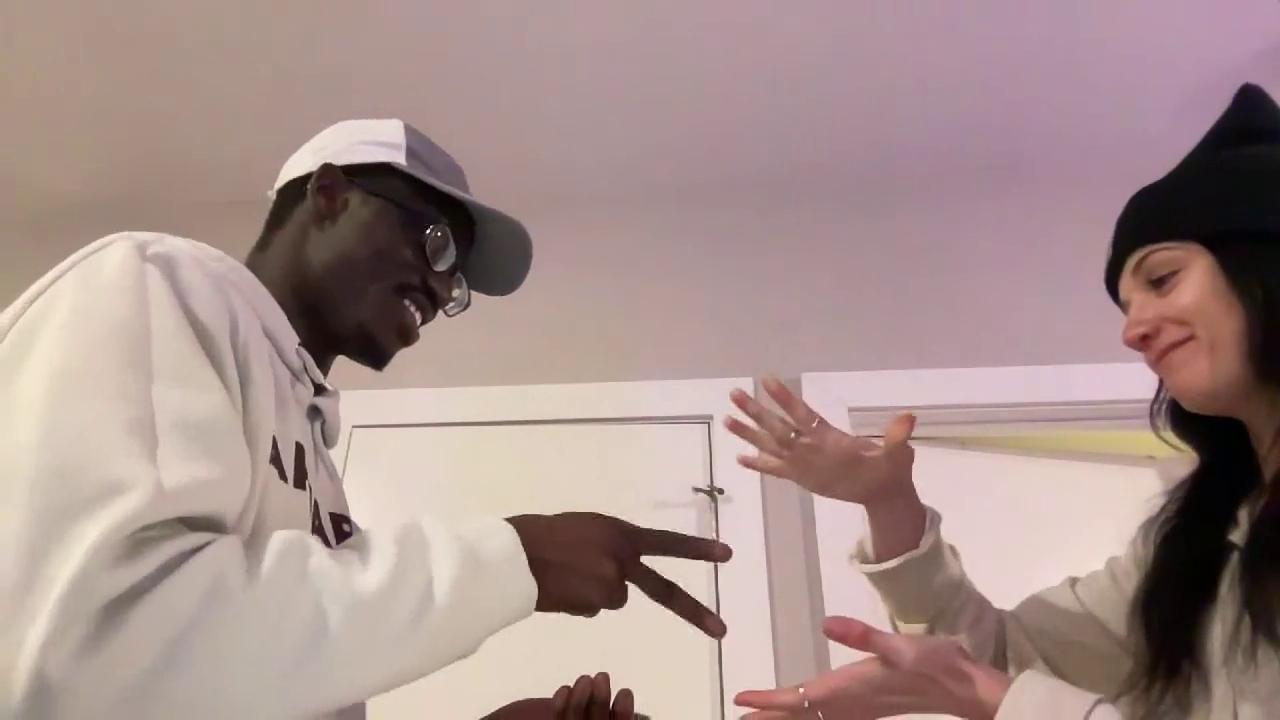Paper: (723, 377, 918, 503)
Scissors: (518, 508, 735, 637)
